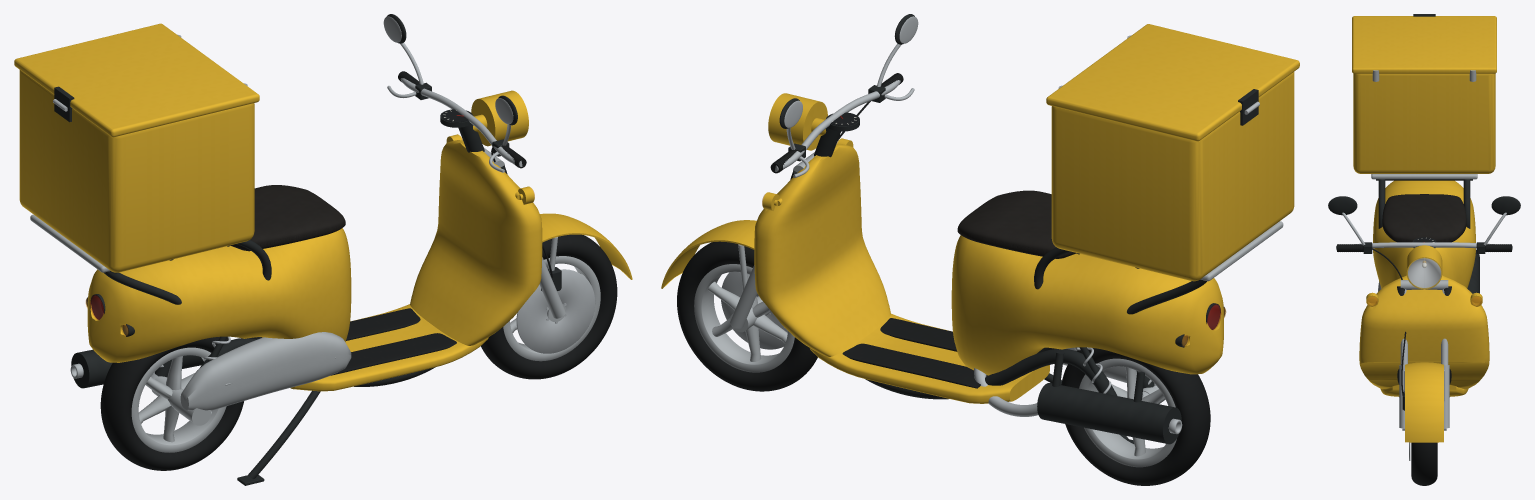
File: delivery-scooter.glb
3 renders of one model, left to right at view 1: azimuth 30°, elevation 25°; view 2: azimuth 150°, elevation 25°; view 3: azimuth 270°, elevation 25°, orthographic. The views are drawn at different scales.
Parts seen in each view (by area): view 1: Delivery closed hollow cargo box, Scooter lofted rear body with real wheel opening, Scooter shaped leg shield with front wheel clearance, Delivery seated cargo lid, Scooter cast automatic transmission case, Scooter rear wheel rounded tyre carcass, Scooter front wheel rounded tyre carcass, Delivery shaped rider saddle, Scooter front wheel finite brake rotor, Scooter closed step-through footboard, Scooter rear wheel turned rim and bead seats, Scooter seated footboard grip -100 (+11 smaller); view 2: Delivery closed hollow cargo box, Scooter lofted rear body with real wheel opening, Scooter shaped leg shield with front wheel clearance, Delivery seated cargo lid, Scooter rear wheel rounded tyre carcass, Scooter front wheel rounded tyre carcass, Scooter closed step-through footboard, Scooter muffler closed body, Delivery shaped rider saddle, Scooter front wheel turned rim and bead seats, Scooter rear wheel turned rim and bead seats, Scooter seated footboard grip 100 (+10 smaller); view 3: Delivery closed hollow cargo box, Scooter shaped leg shield with front wheel clearance, Delivery seated cargo lid, Scooter lofted rear body with real wheel opening, Delivery shaped rider saddle, Scooter front curved mudguard, Scooter front wheel rounded tyre carcass, Scooter headlamp finite curved optic, Scooter headlamp seated parabolic reflector, Delivery cargo mounting plate, Scooter headlamp closed optical housing, Scooter curved handlebar (+9 smaller).
Boxes of the visible parts, x1=… form: Delivery closed hollow cargo box: x1=19, y1=70, x2=254, y2=272; Scooter lofted rear body with real wheel opening: x1=87, y1=228, x2=351, y2=362; Scooter shaped leg shield with front wheel clearance: x1=410, y1=140, x2=542, y2=345; Delivery seated cargo lid: x1=14, y1=23, x2=259, y2=137; Scooter cast automatic transmission case: x1=180, y1=332, x2=351, y2=410; Scooter rear wheel rounded tyre carcass: x1=100, y1=337, x2=243, y2=470; Scooter front wheel rounded tyre carcass: x1=481, y1=234, x2=617, y2=379; Delivery shaped rider saddle: x1=231, y1=185, x2=345, y2=251; Scooter front wheel finite brake rotor: x1=516, y1=269, x2=595, y2=353; Scooter closed step-through footboard: x1=290, y1=304, x2=488, y2=391; Scooter rear wheel turned rim and bead seats: x1=131, y1=347, x2=226, y2=452; Scooter seated footboard grip -100: x1=331, y1=333, x2=456, y2=375; Delivery closed hollow cargo box: x1=1051, y1=72, x2=1294, y2=281; Scooter lofted rear body with real wheel opening: x1=951, y1=235, x2=1223, y2=375; Scooter shaped leg shield with front wheel clearance: x1=754, y1=144, x2=890, y2=356; Delivery seated cargo lid: x1=1046, y1=24, x2=1299, y2=141; Scooter rear wheel rounded tyre carcass: x1=1061, y1=348, x2=1210, y2=485; Scooter front wheel rounded tyre carcass: x1=677, y1=241, x2=817, y2=391; Scooter closed step-through footboard: x1=810, y1=313, x2=1049, y2=403; Scooter muffler closed body: x1=1037, y1=383, x2=1181, y2=444; Delivery shaped rider saddle: x1=957, y1=190, x2=1076, y2=258; Scooter front wheel turned rim and bead seats: x1=694, y1=264, x2=794, y2=372; Scooter rear wheel turned rim and bead seats: x1=1079, y1=358, x2=1176, y2=467; Scooter seated footboard grip 100: x1=842, y1=343, x2=987, y2=388; Delivery closed hollow cargo box: x1=1353, y1=73, x2=1495, y2=173; Scooter shaped leg shield with front wheel clearance: x1=1359, y1=275, x2=1489, y2=389; Delivery seated cargo lid: x1=1352, y1=16, x2=1496, y2=73; Scooter lofted rear body with real wheel opening: x1=1373, y1=180, x2=1475, y2=288; Delivery shaped rider saddle: x1=1382, y1=194, x2=1466, y2=242; Scooter front curved mudguard: x1=1405, y1=362, x2=1443, y2=442; Scooter front wheel rounded tyre carcass: x1=1411, y1=442, x2=1437, y2=485; Scooter headlamp finite curved optic: x1=1407, y1=258, x2=1441, y2=289; Scooter headlamp seated parabolic reflector: x1=1408, y1=258, x2=1440, y2=287; Delivery cargo mounting plate: x1=1371, y1=174, x2=1477, y2=179; Scooter headlamp closed optical housing: x1=1406, y1=245, x2=1442, y2=289; Scooter curved handlebar: x1=1336, y1=242, x2=1512, y2=250.
Bounding box in the file's own units: 2.01 × 1.37 × 0.814.
Materials: 13 (13 with a texture image).
